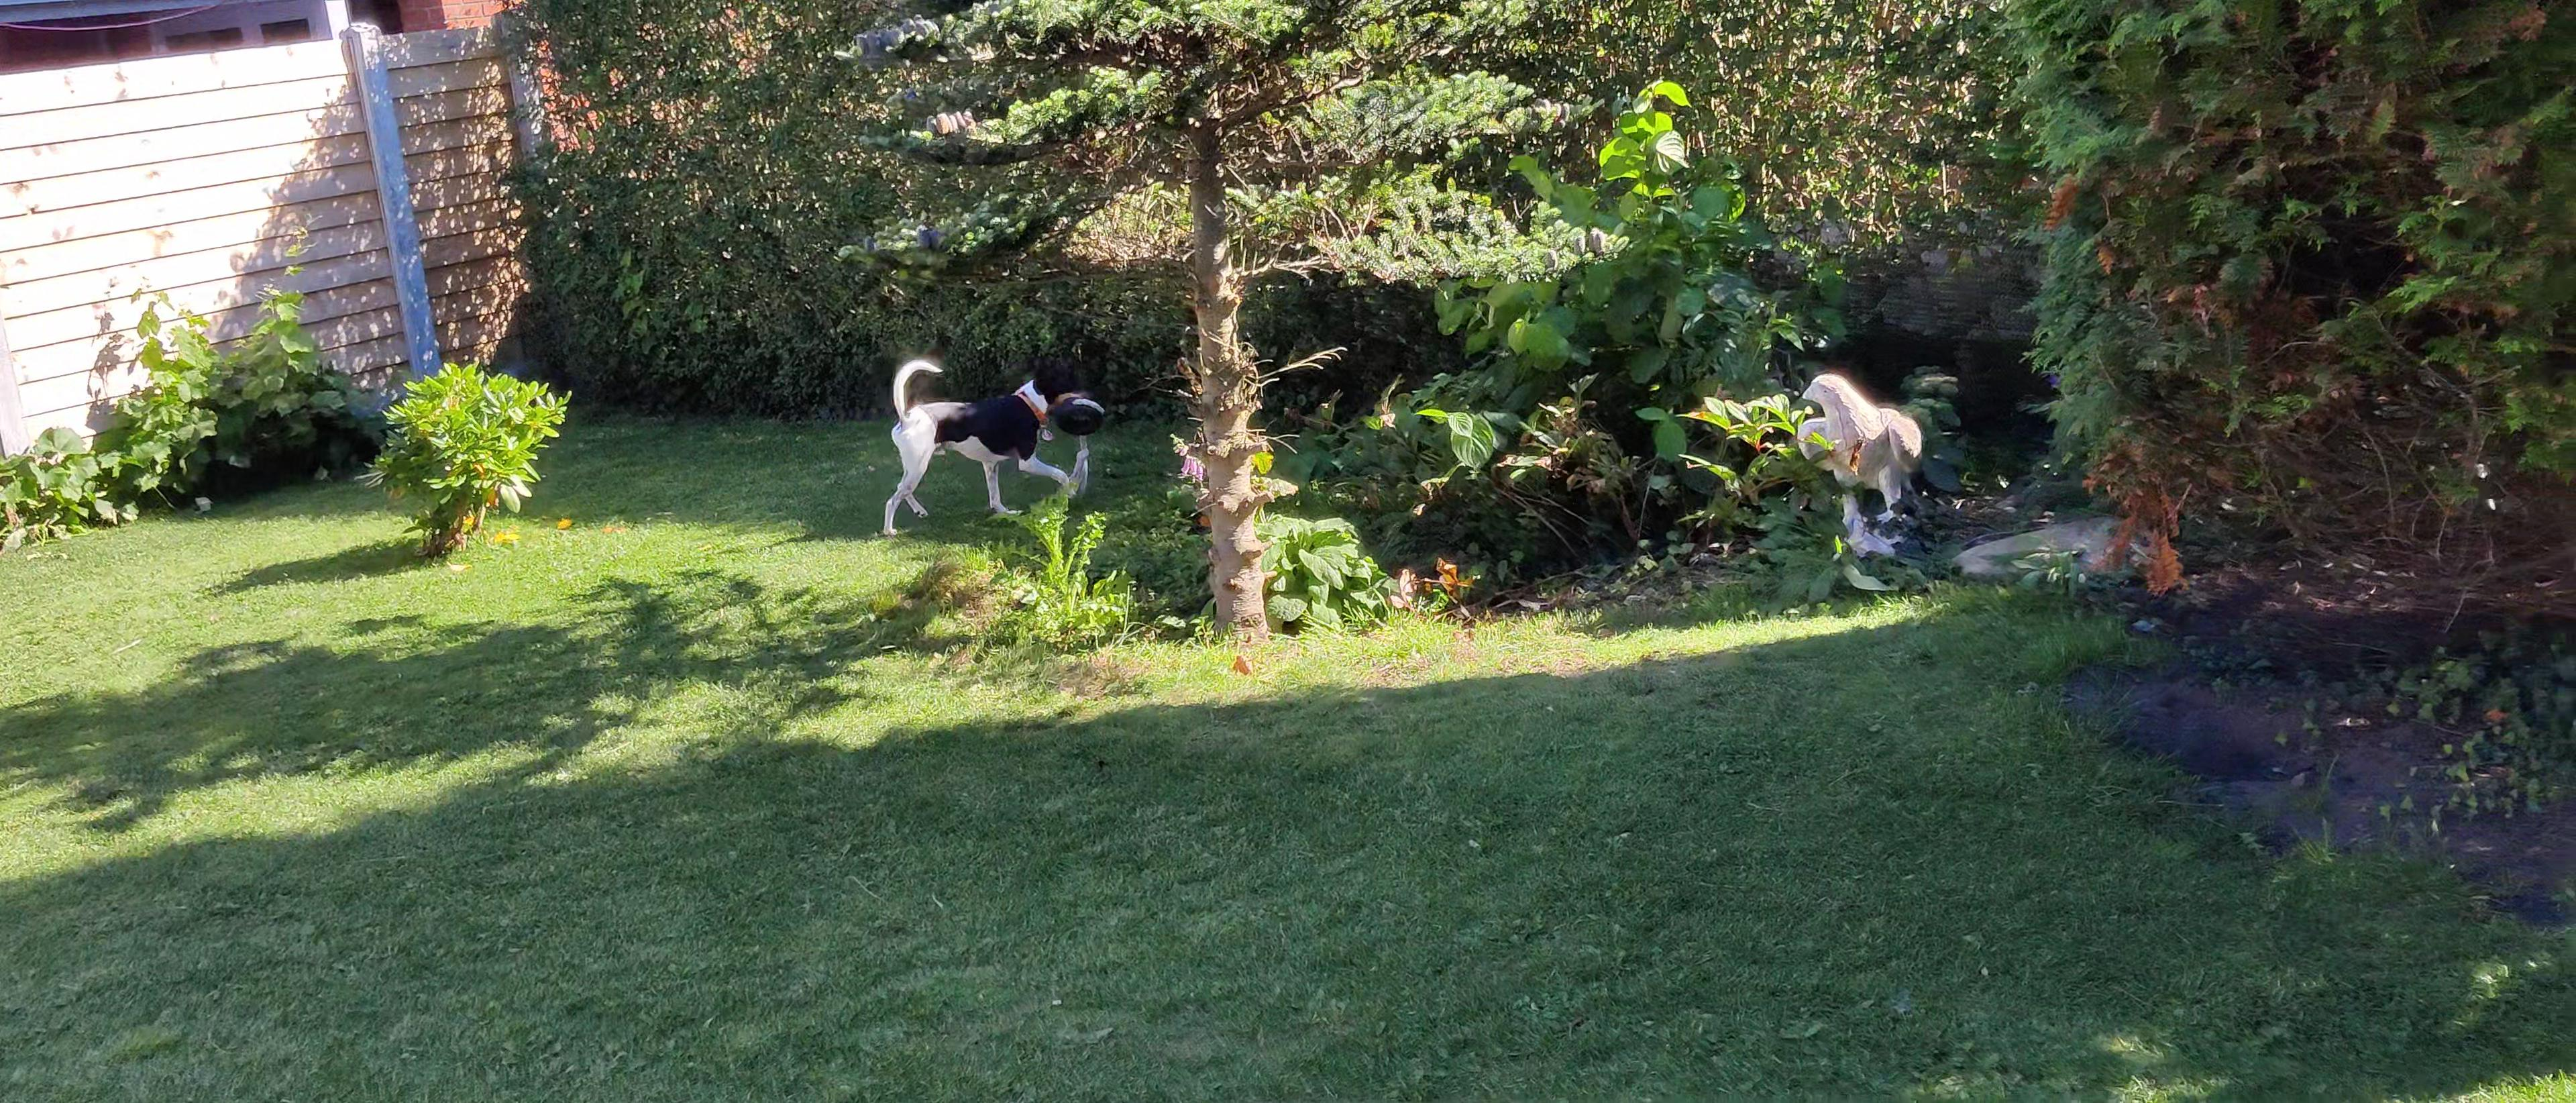Dog: (879, 348, 1104, 539)
